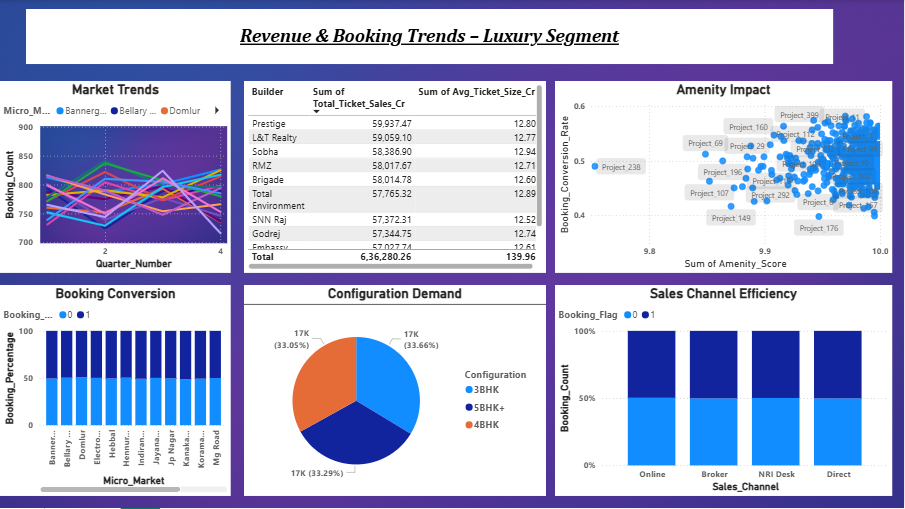

This screenshot's page, from the dashboard's own definition file:
{"tool":"powerbi","page":{"name":"Page 1","canvas":[1280,720],"ordinal":0},"visuals":[{"type":"lineChart","title":"Market Trends","fields":{"Category":["Query1.Quarter_Number"],"Y":["Sum(Query1.Booking_Count)"],"Series":["Query1.Micro_Market"]},"box":[0,90.7,355.7,296.2],"z":0},{"type":"pieChart","title":"Configuration Demand","fields":{"Category":["Configuration Demand.Configuration"],"Y":["Sum(Configuration Demand.Booking_Count)"]},"box":[345.8,386.9,440.8,333.1],"z":1000},{"type":"hundredPercentStackedColumnChart","title":"Sales Channel Efficiency","fields":{"Series":["Sales Channel Efficiency.Booking_Flag"],"Category":["Sales Channel Efficiency.Sales_Channel"],"Y":["Sum(Sales Channel Efficiency.Count)"]},"box":[786.6,396.9,493.2,323.1],"z":2000},{"type":"textbox","box":[0,0,1279.8,90.7],"z":3000},{"type":"scatterChart","title":"Amenity Impact","fields":{"Category":["Amenity Impact.Project_Name"],"X":["Sum(Amenity Impact.Amenity_Score)"],"Y":["Sum(Amenity Impact.Booking_Conversion_Rate)"]},"box":[786.6,90.7,493.2,306.1],"z":4000},{"type":"columnChart","title":"Booking Conversion","fields":{"Category":["Booking Conversion.Micro_Market"],"Y":["Sum(Booking Conversion.Booking_Percentage)"],"Series":["Booking Conversion.Booking_Flag"]},"box":[0,386.9,345.8,333.1],"z":5000},{"type":"tableEx","fields":{"Values":["Builder Performance.Builder","Sum(Builder Performance.Total_Ticket_Sales_Cr)","Sum(Builder Performance.Avg_Ticket_Size_Cr)"]},"box":[345.8,90.7,440.8,296.2],"z":6000}]}

Visuals, with their boxes in screenshot pixels (x1, y1, x2, y2), scaled from the page's 1280x720 canvas onto the 905x509 screenshot:
"Market Trends" lineChart: [left=0, top=64, right=251, bottom=274]
"Configuration Demand" pieChart: [left=244, top=274, right=556, bottom=508]
"Sales Channel Efficiency" hundredPercentStackedColumnChart: [left=556, top=281, right=904, bottom=508]
textbox: [left=0, top=0, right=904, bottom=64]
"Amenity Impact" scatterChart: [left=556, top=64, right=904, bottom=281]
"Booking Conversion" columnChart: [left=0, top=274, right=244, bottom=508]
tableEx - Builder Performance.Builder x Sum(Builder Performance.Total_Ticket_Sales_Cr): [left=244, top=64, right=556, bottom=274]
